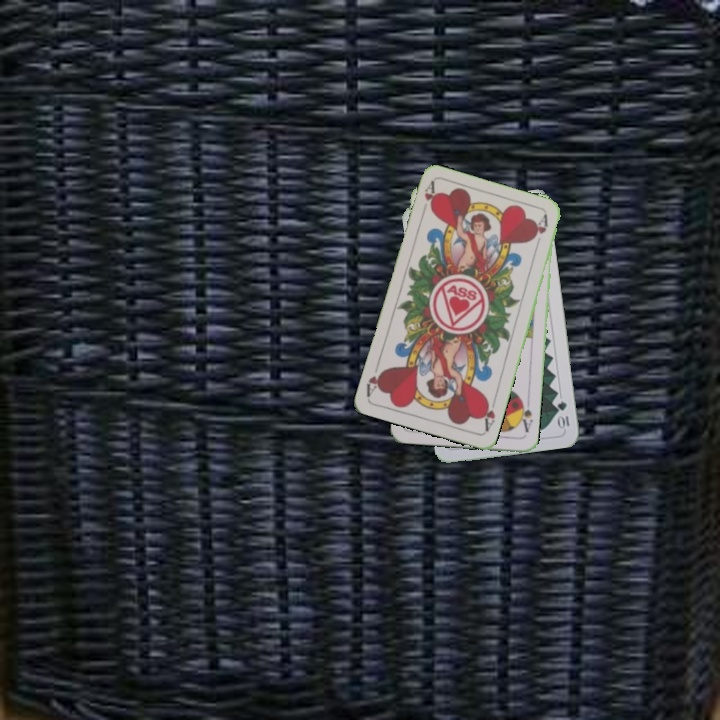G10: (553, 397, 572, 432)
HA: (417, 178, 440, 218), (478, 394, 499, 434)
SA: (515, 396, 535, 435)
